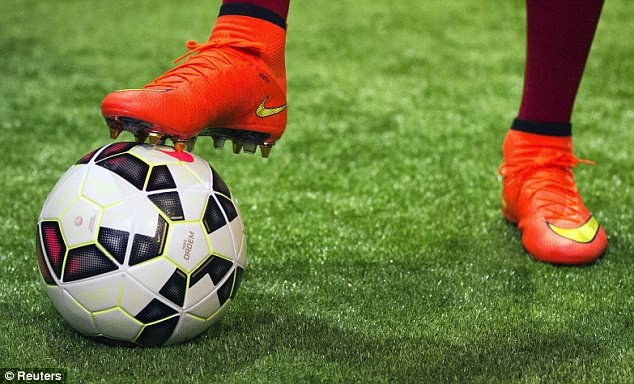football boots: (101, 2, 289, 158), (501, 118, 608, 265)
